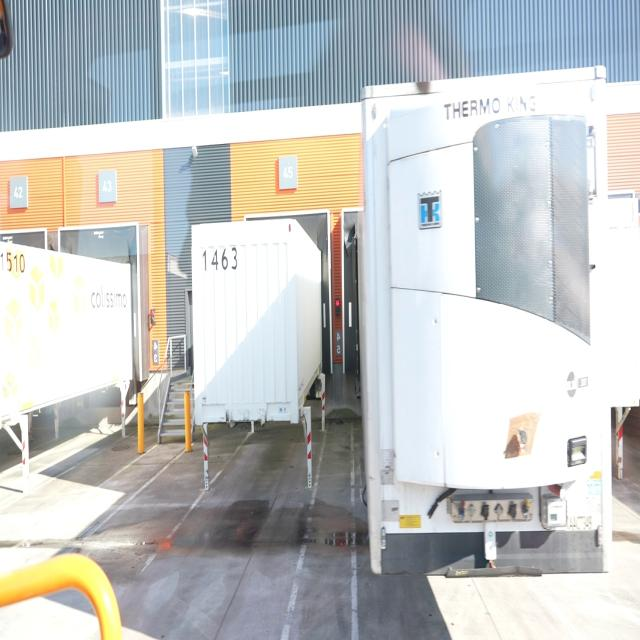Code: (198, 245, 240, 278), (0, 246, 30, 280)
